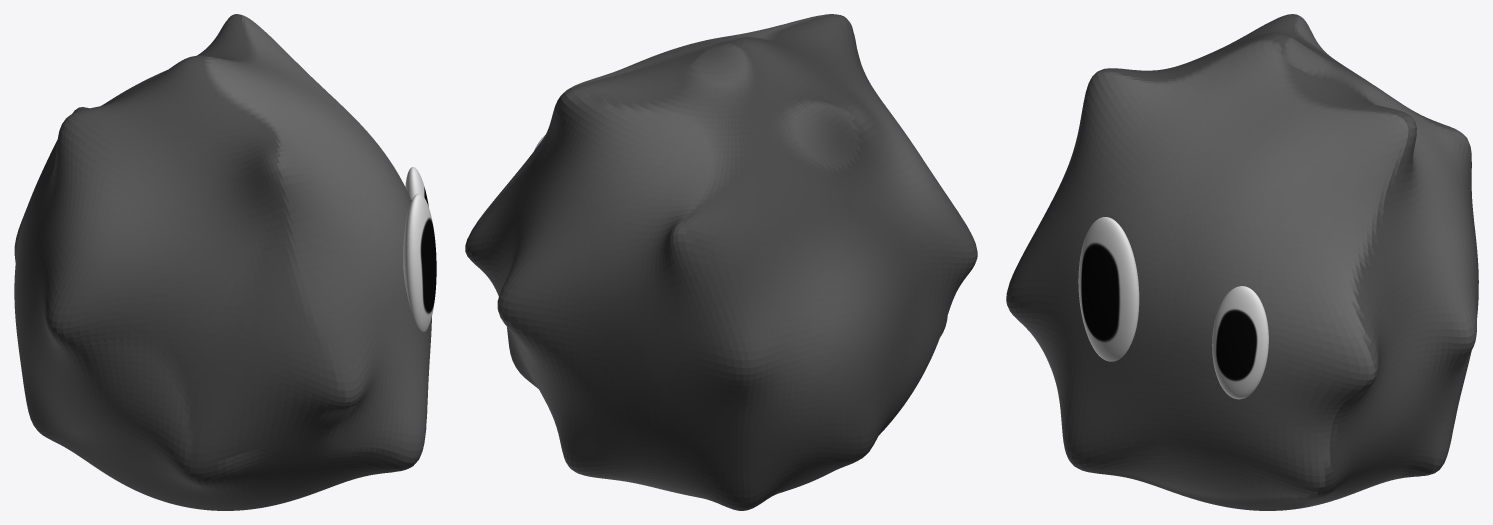
File: PEPE_PEUSA.fbx
3 views of the same model, side by side, from view 1: azimuth 30°, elevation 25°; view 2: azimuth 150°, elevation 25°; view 3: azimuth 270°, elevation 25° (orthographic). The views are drawn at different scales.
Parts seen in each view (by area): view 1: Sphere, Sphere.001, Sphere.002; view 2: Sphere; view 3: Sphere, Sphere.001, Sphere.002.
Part boxes in pixels (box(x1,y1,x2,y2)): Sphere: box(14, 14, 431, 510); Sphere.001: box(403, 193, 436, 331); Sphere.002: box(405, 167, 428, 206); Sphere: box(465, 14, 977, 510); Sphere: box(1006, 14, 1478, 510); Sphere.001: box(1078, 217, 1139, 361); Sphere.002: box(1212, 286, 1268, 399).
Size of the model in its own units: 142 by 143 by 138.
